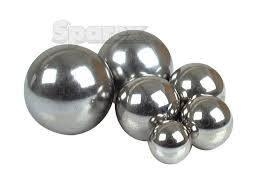steelball: (22, 42, 114, 135), (146, 117, 192, 164)
